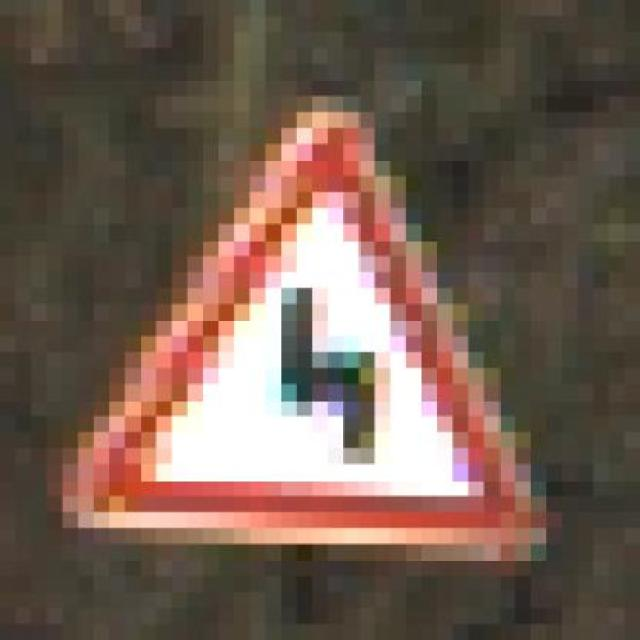Left Zig Zag Traffic: (62, 112, 593, 592)
